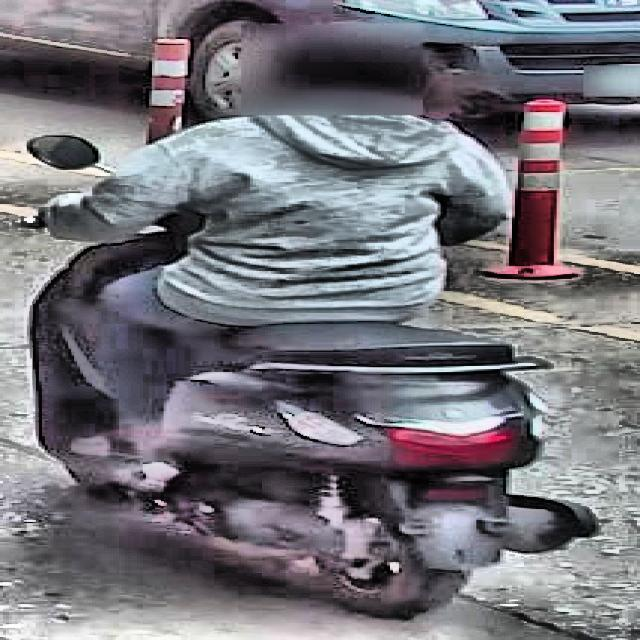motorcycle: (0, 129, 605, 625)
